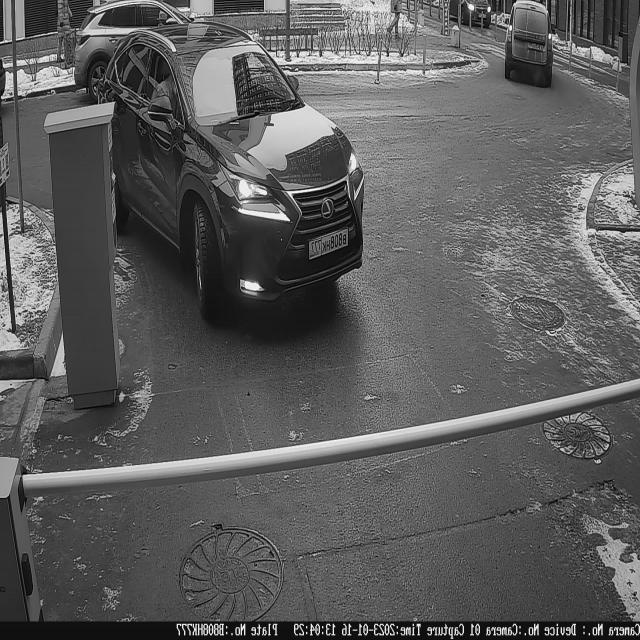car-plate-numbers: (308, 222, 353, 264)
